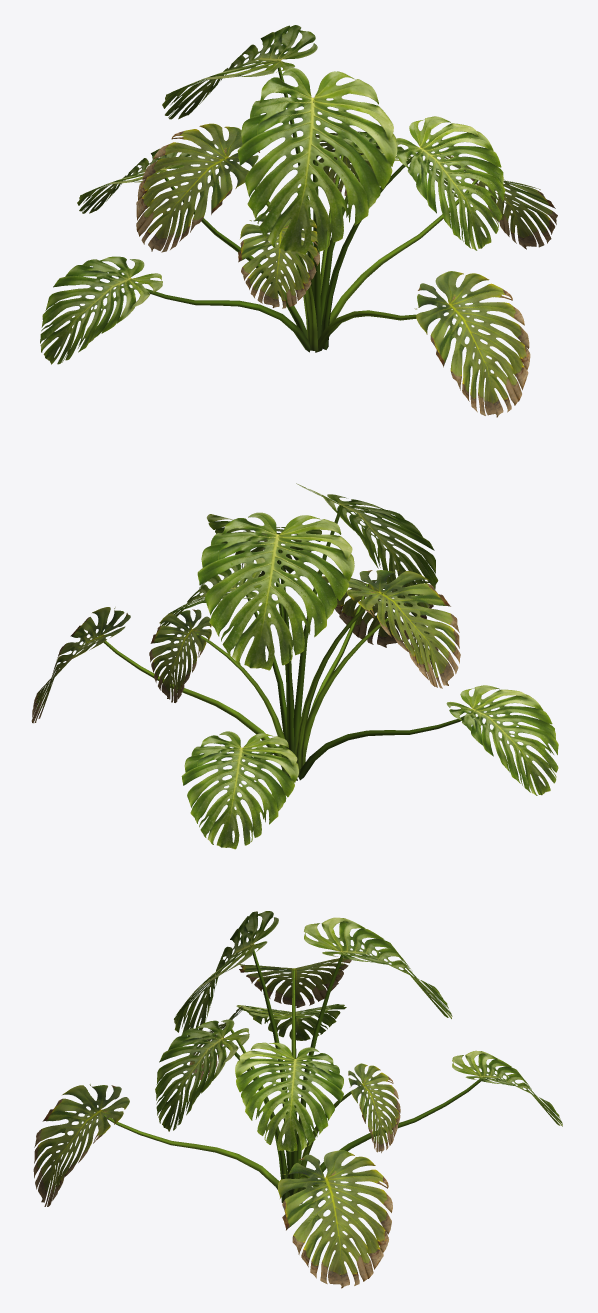
Rendered from monstera1.FBX.
3 views of the same model, one above another, from view 1: azimuth 30°, elevation 25°; view 2: azimuth 150°, elevation 25°; view 3: azimuth 270°, elevation 25° (orthographic). The views are drawn at different scales.
Visible parts, largest first — view 1: monstera1; view 2: monstera1; view 3: monstera1.
Boxes of the visible parts, left/top/right/bottom form: monstera1: left=40, top=25, right=557, bottom=417; monstera1: left=31, top=483, right=558, bottom=849; monstera1: left=33, top=911, right=562, bottom=1288.
Size of the model in its own units: 38.2 by 21.69 by 38.65.
